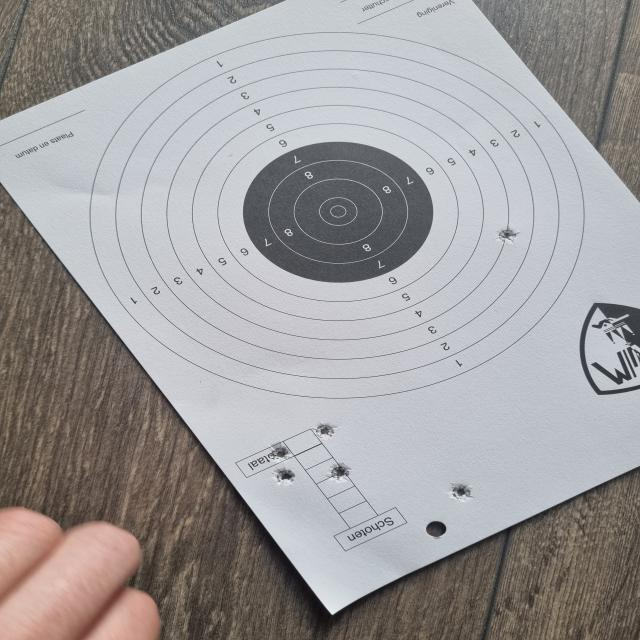0: (326, 462, 352, 483), (312, 421, 341, 439), (269, 443, 292, 464), (449, 482, 475, 500), (272, 467, 295, 486)
5: (498, 228, 520, 242)
Target: (89, 29, 586, 399)
black_contour: (237, 141, 432, 282)
